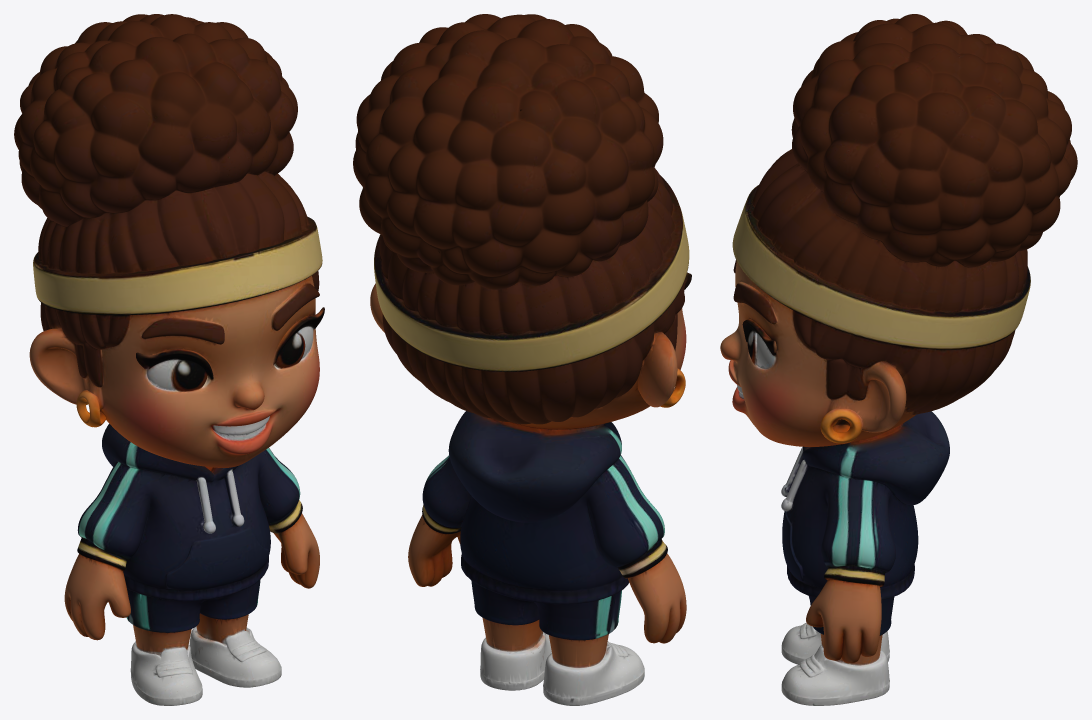
File: garcon-mask-opt.glb
3 views of the same model, side by side, from view 1: azimuth 30°, elevation 25°; view 2: azimuth 150°, elevation 25°; view 3: azimuth 270°, elevation 25° (orthographic). The views are drawn at different scales.
Visible parts, largest first — view 1: material; view 2: material; view 3: material.
Boxes of the visible parts, x1,y1,x2,y2 form: material: (14, 14, 324, 705); material: (353, 14, 691, 705); material: (720, 14, 1077, 705).
Bounding box in the file's own units: 0.5344 × 1.14 × 0.575.
Materials: 1 (1 with a texture image).
